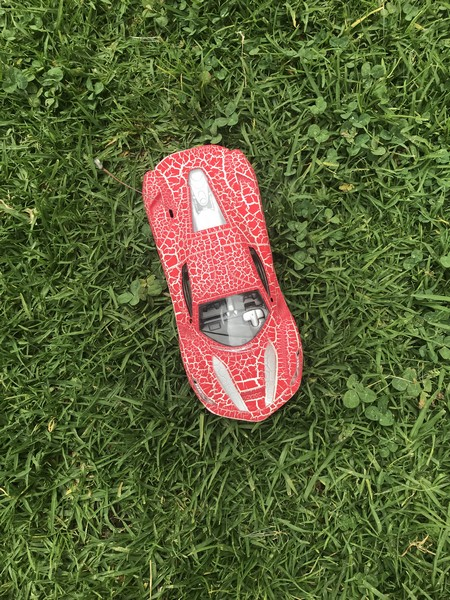RC: (140, 143, 304, 424)
